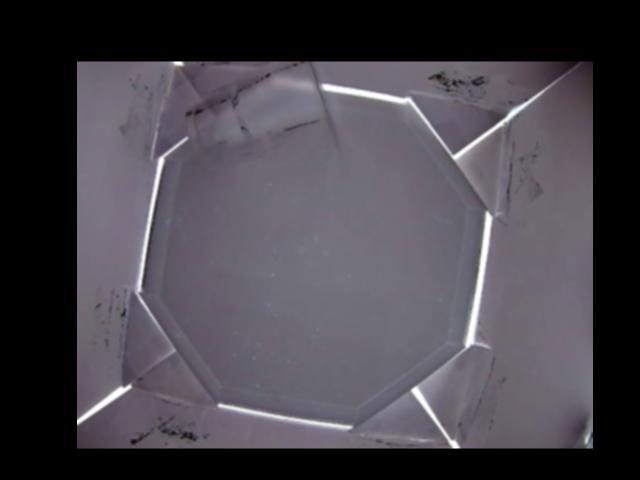Cup: (185, 62, 339, 170)
